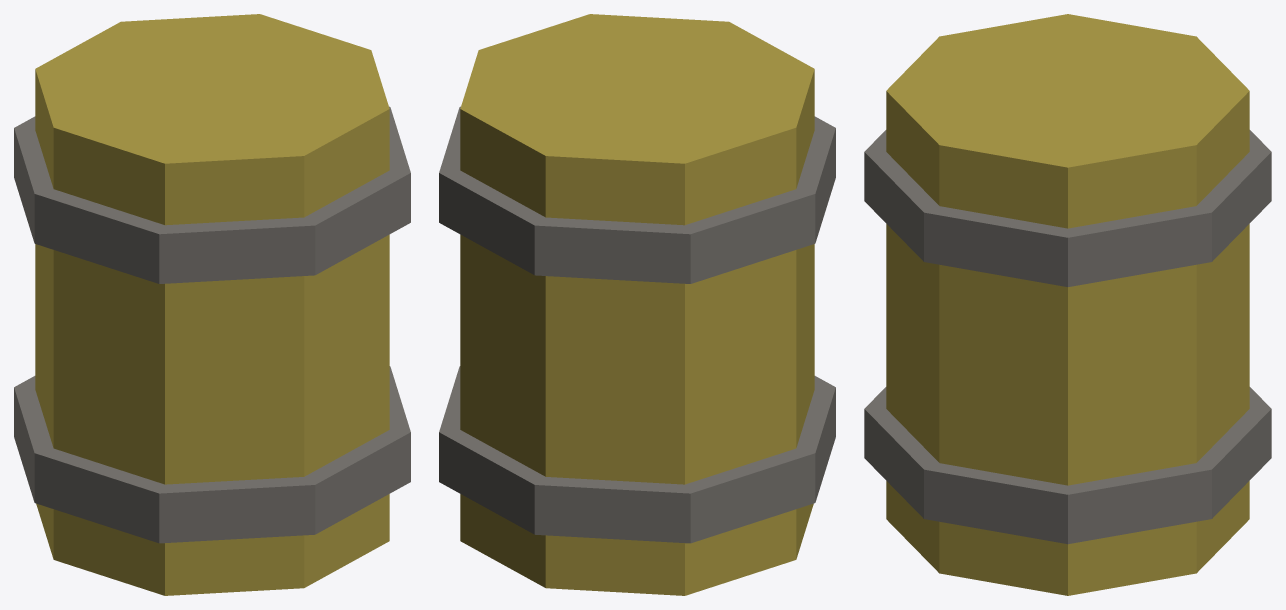
File: oilcan.fbx
3 renders of one model, left to right at view 1: azimuth 30°, elevation 25°; view 2: azimuth 150°, elevation 25°; view 3: azimuth 270°, elevation 25°, orthographic.
Visible parts, largest first — view 1: oilcan; view 2: oilcan; view 3: oilcan.
Part boxes in pixels (x1,y1,x2,y2): oilcan: (14,14,410,595); oilcan: (439,14,835,595); oilcan: (864,14,1271,595).
Bounding box in the file's own units: 0.672 × 0.78 × 0.672.
